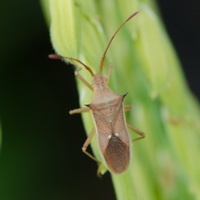insect: (48, 11, 144, 173)
